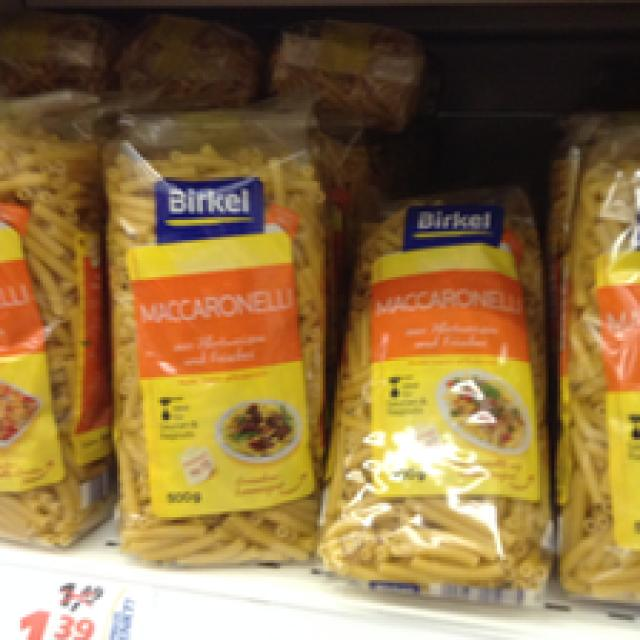groceries: (100, 106, 326, 557), (317, 180, 554, 594), (0, 91, 106, 543), (540, 117, 637, 603)
